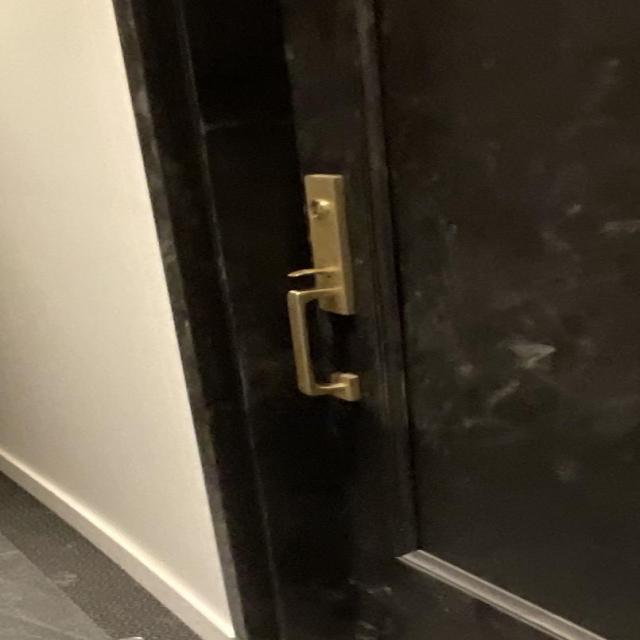door_handle: (266, 283, 378, 408)
